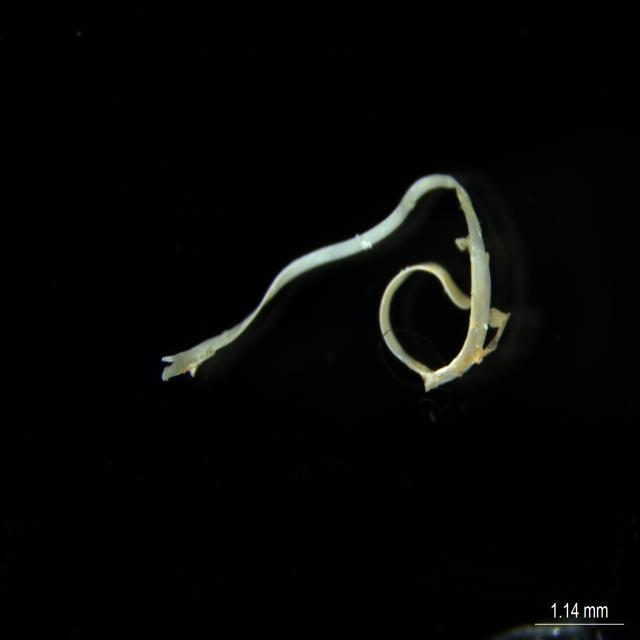fibers: (149, 156, 552, 517)
